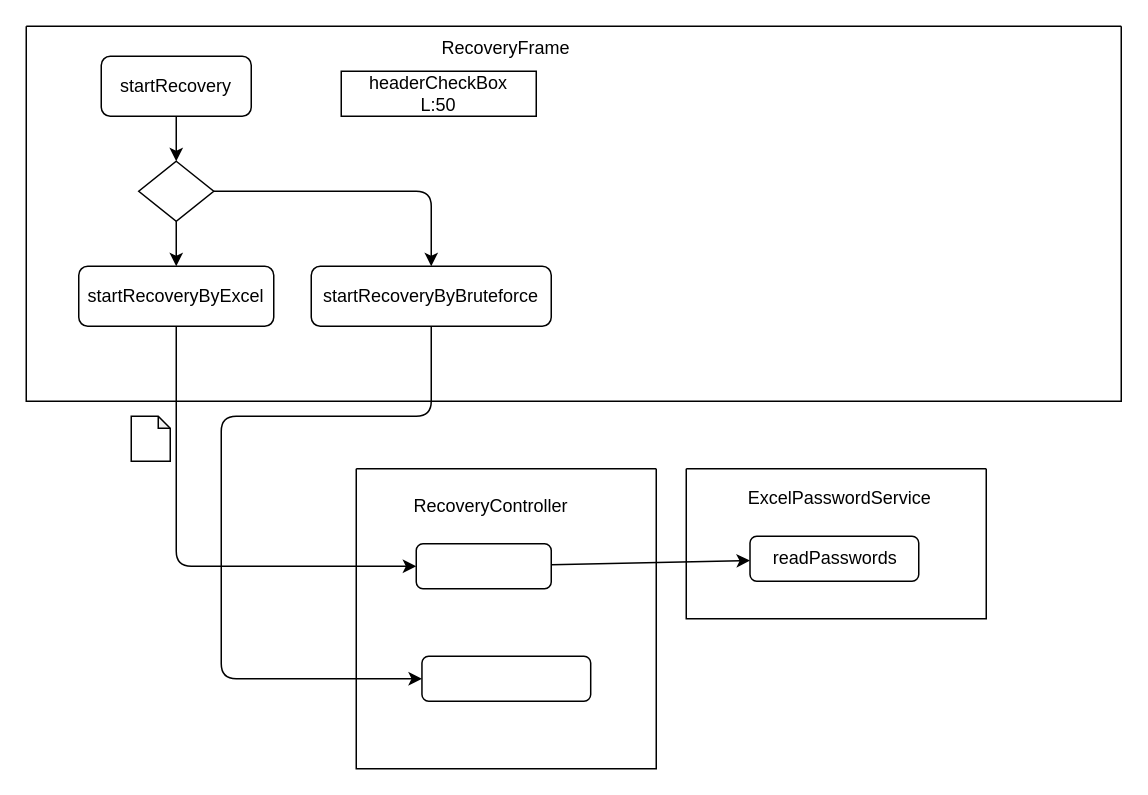
Some shapes in this 1148 by 795 pixel diagram are drawn without their labels. Here are the shapes that lost their labels. From the top down, the centre of each, then its label:
(483,565): startByExcel
(505,678): startByBruteforce
